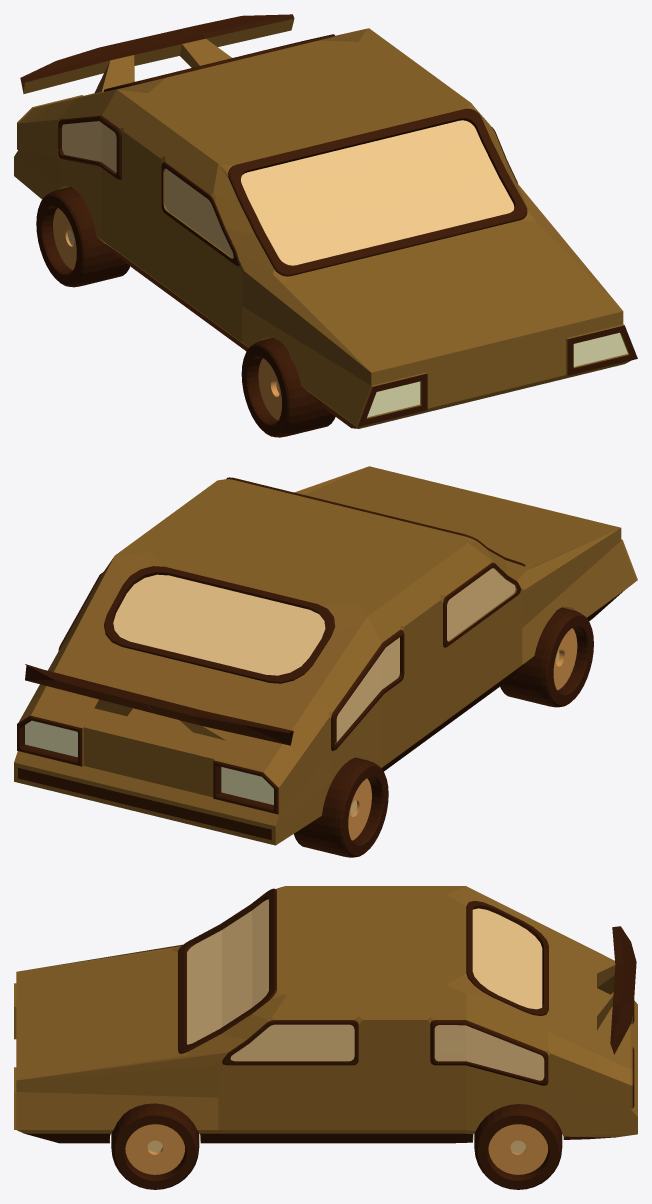
The model's file is Car.fbx.
The picture shows the model from 3 angles, top to bottom: view 1: azimuth 30°, elevation 25°; view 2: azimuth 150°, elevation 25°; view 3: azimuth 270°, elevation 25°; orthographic projection. The views are drawn at different scales.
Parts seen in each view (by area): view 1: Cylinder.001; view 2: Cylinder.001; view 3: Cylinder.001.
Part boxes in pixels (x1,y1,x2,y2): Cylinder.001: (14, 14, 637, 437); Cylinder.001: (14, 466, 637, 857); Cylinder.001: (14, 886, 637, 1189).
Size of the model in its own units: 2.19 by 1.45 by 4.36.
